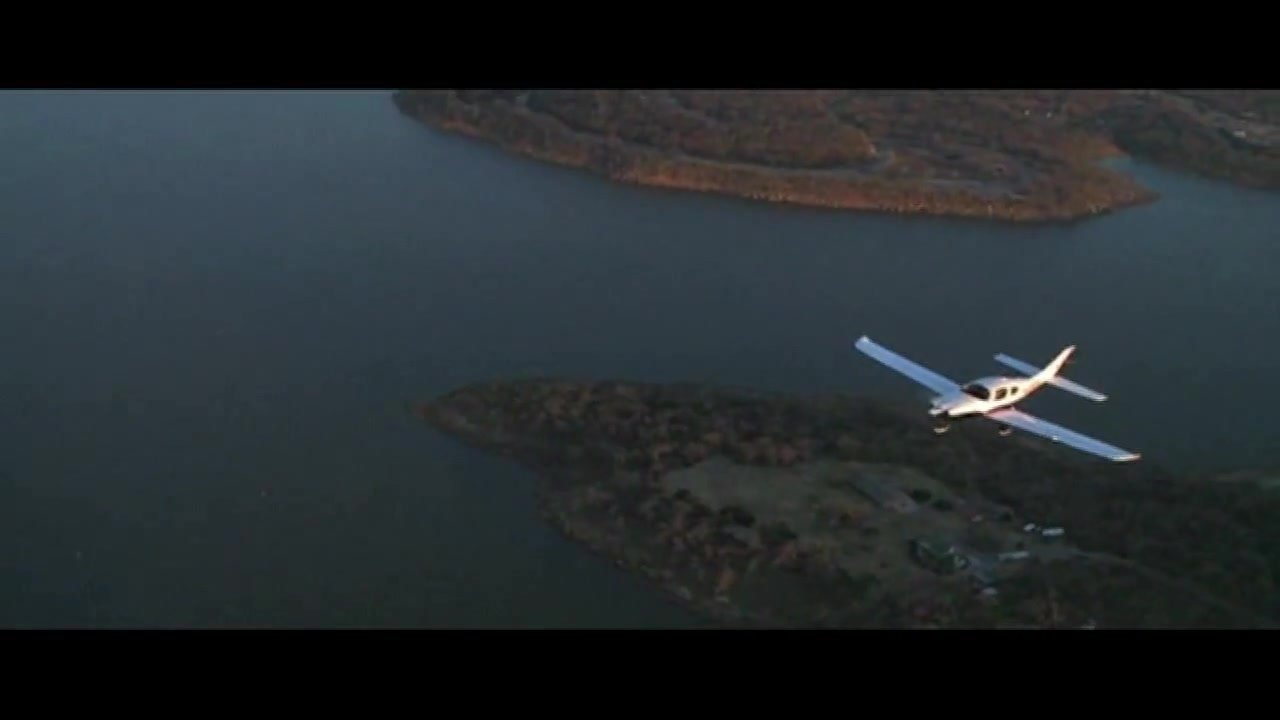aeroplane: (854, 332, 1146, 470)
